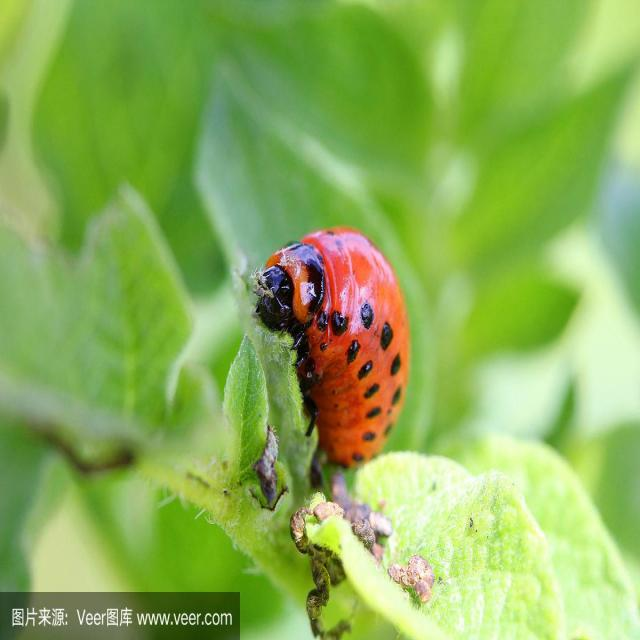ShuCaiHuaBanChong-Larva-: (254, 217, 417, 479)
